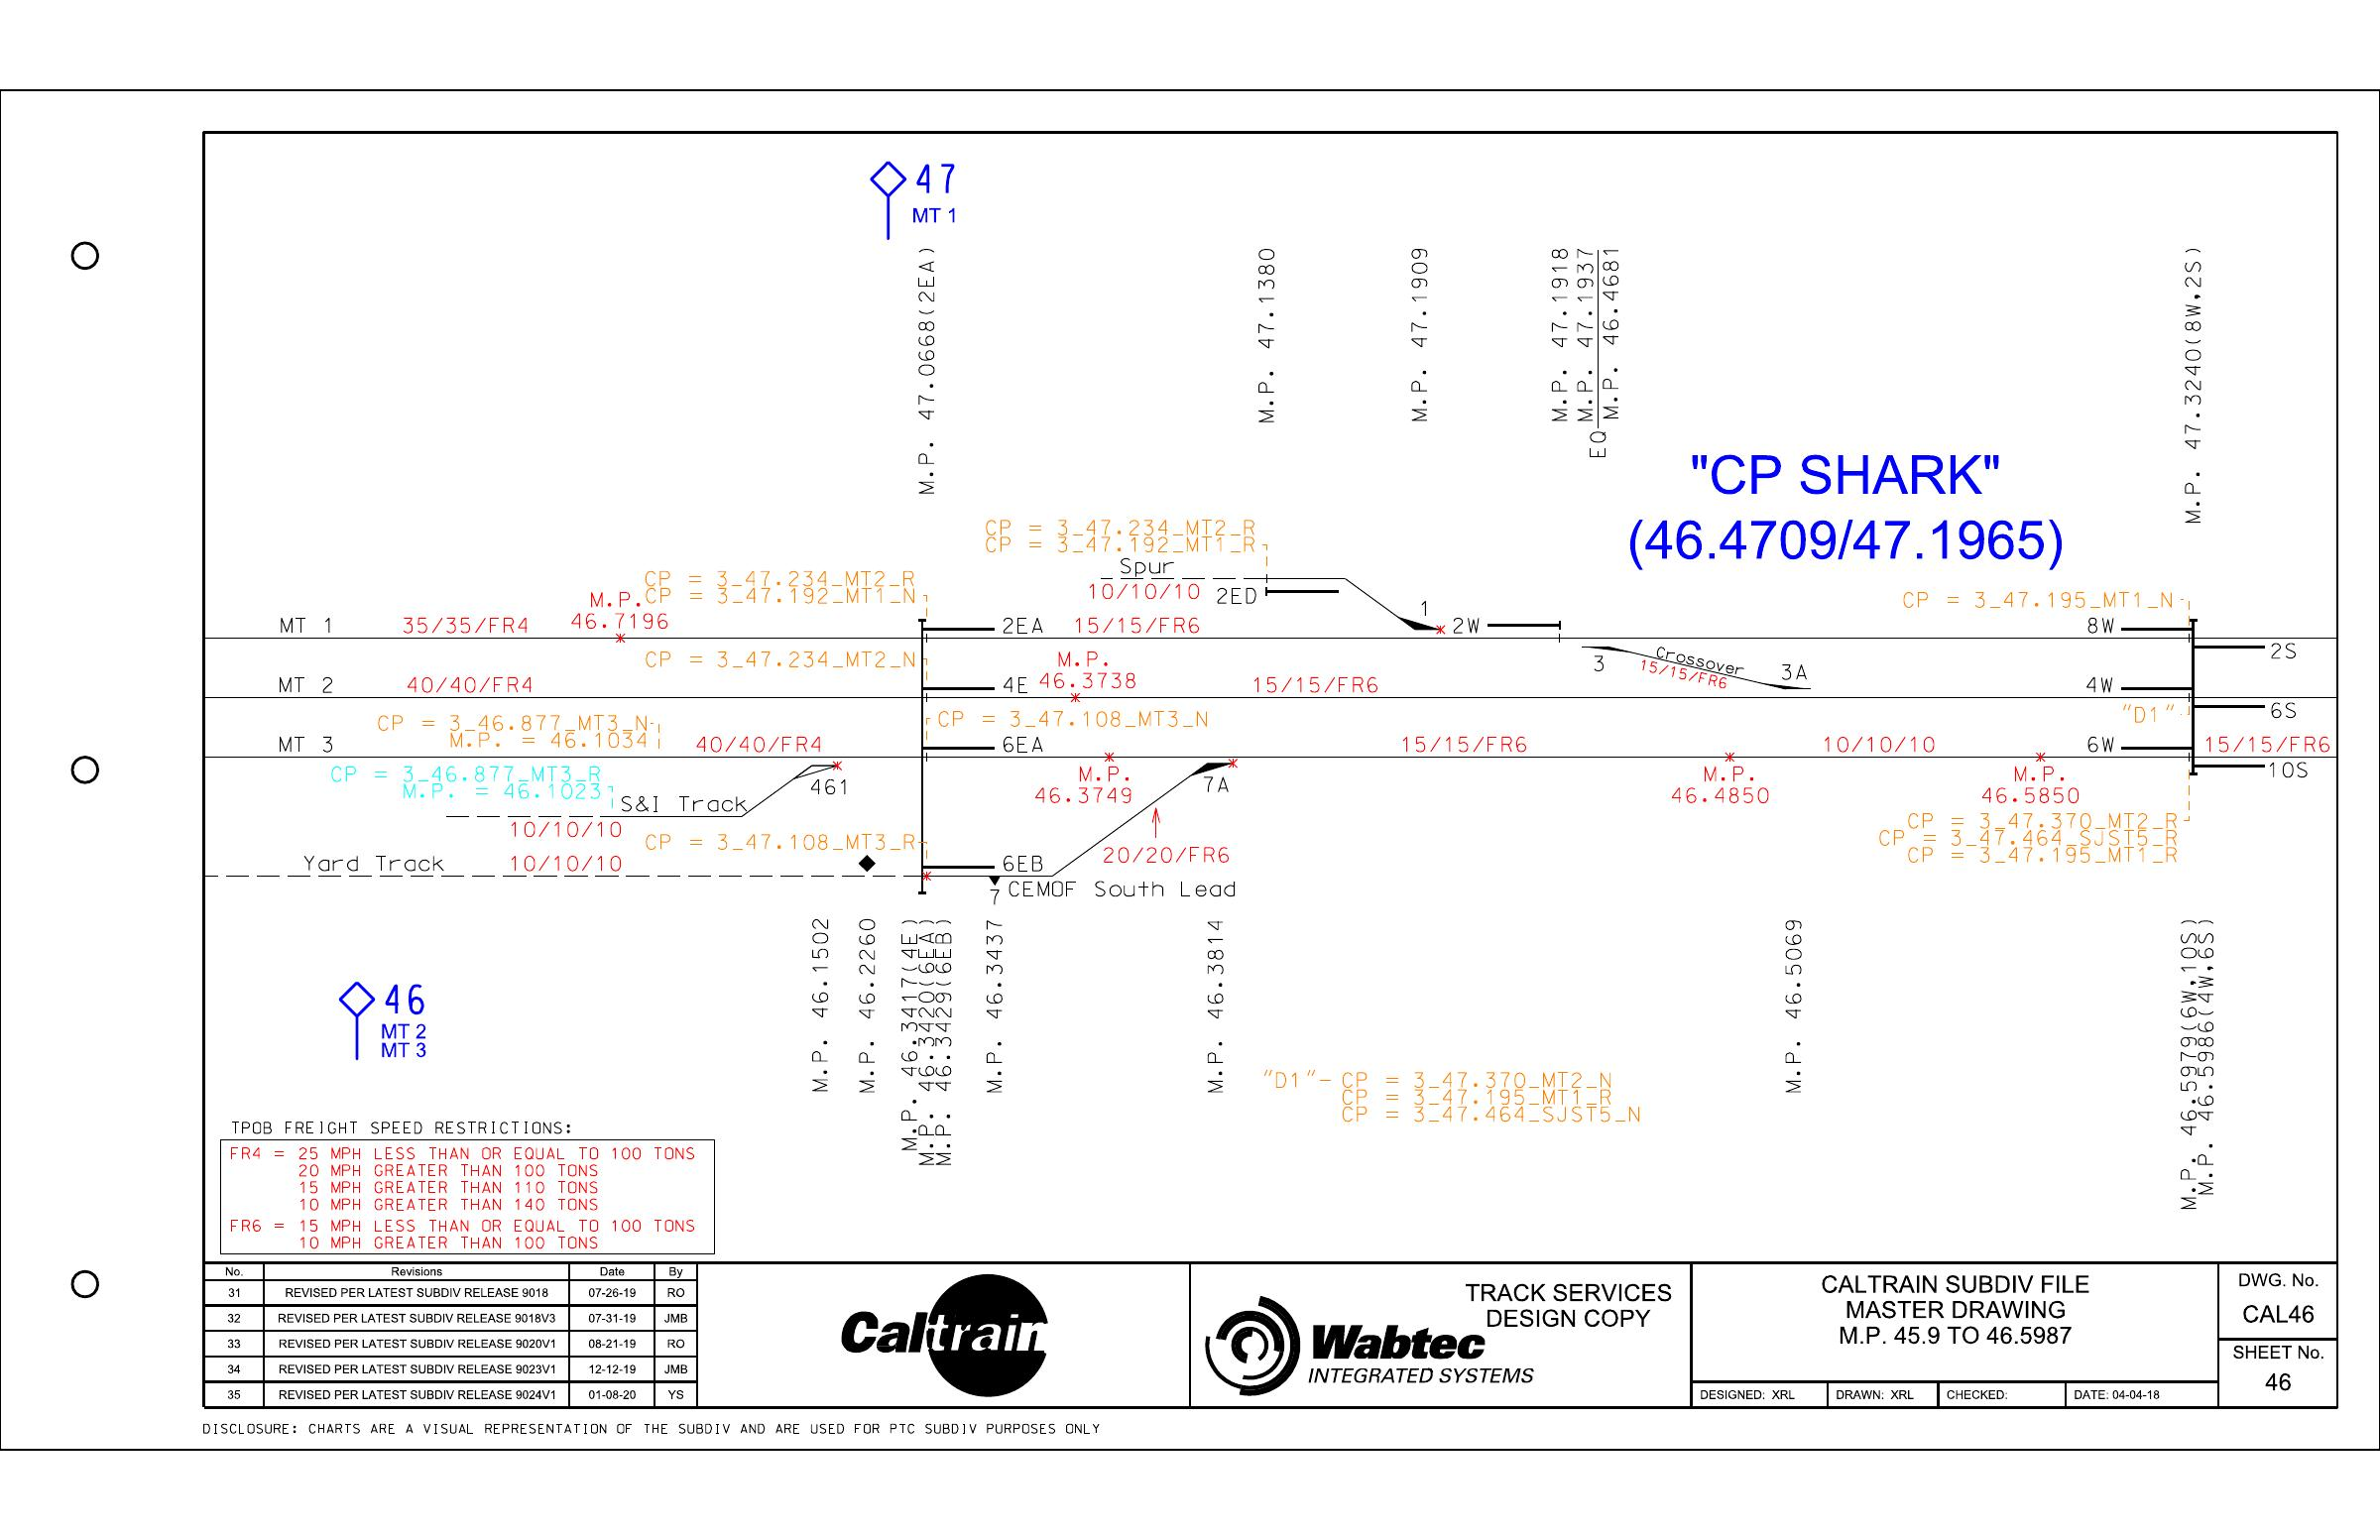elect-switch: (781, 747, 855, 817)
milepost: (2149, 222, 2229, 545), (1535, 208, 1634, 467), (2163, 897, 2234, 1224), (879, 234, 963, 506), (1225, 219, 1304, 465), (1754, 886, 1832, 1136), (801, 902, 886, 1124), (1372, 219, 1450, 460), (895, 912, 963, 1186), (1181, 902, 1252, 1145), (977, 909, 1044, 1138)
signal: (1213, 569, 1344, 617), (2182, 626, 2318, 673), (914, 730, 1058, 772), (2078, 659, 2205, 706), (907, 607, 1056, 645), (2184, 753, 2323, 791), (2076, 610, 2207, 650), (912, 848, 1056, 881), (2186, 688, 2307, 727), (2076, 723, 2208, 758), (911, 673, 1041, 708)
switch: (1389, 583, 1450, 662), (1572, 623, 1641, 690), (1185, 747, 1251, 813), (1762, 647, 1821, 718)
